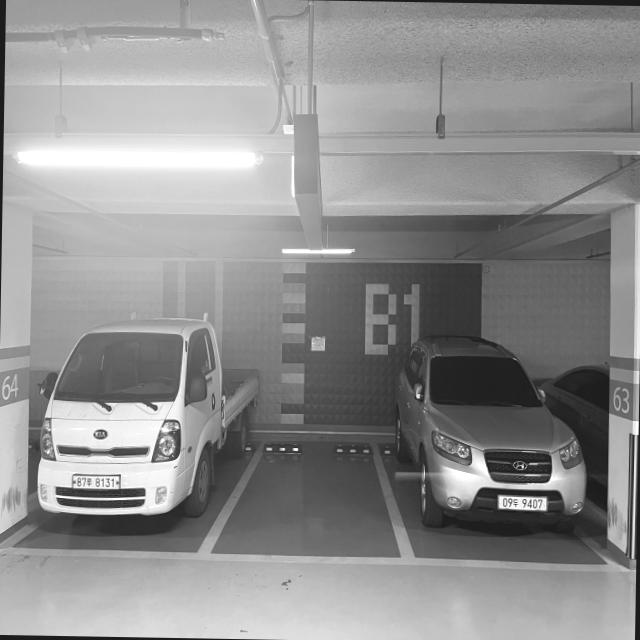car: (402, 324, 604, 555), (24, 320, 216, 561)
free: (193, 432, 412, 563)
